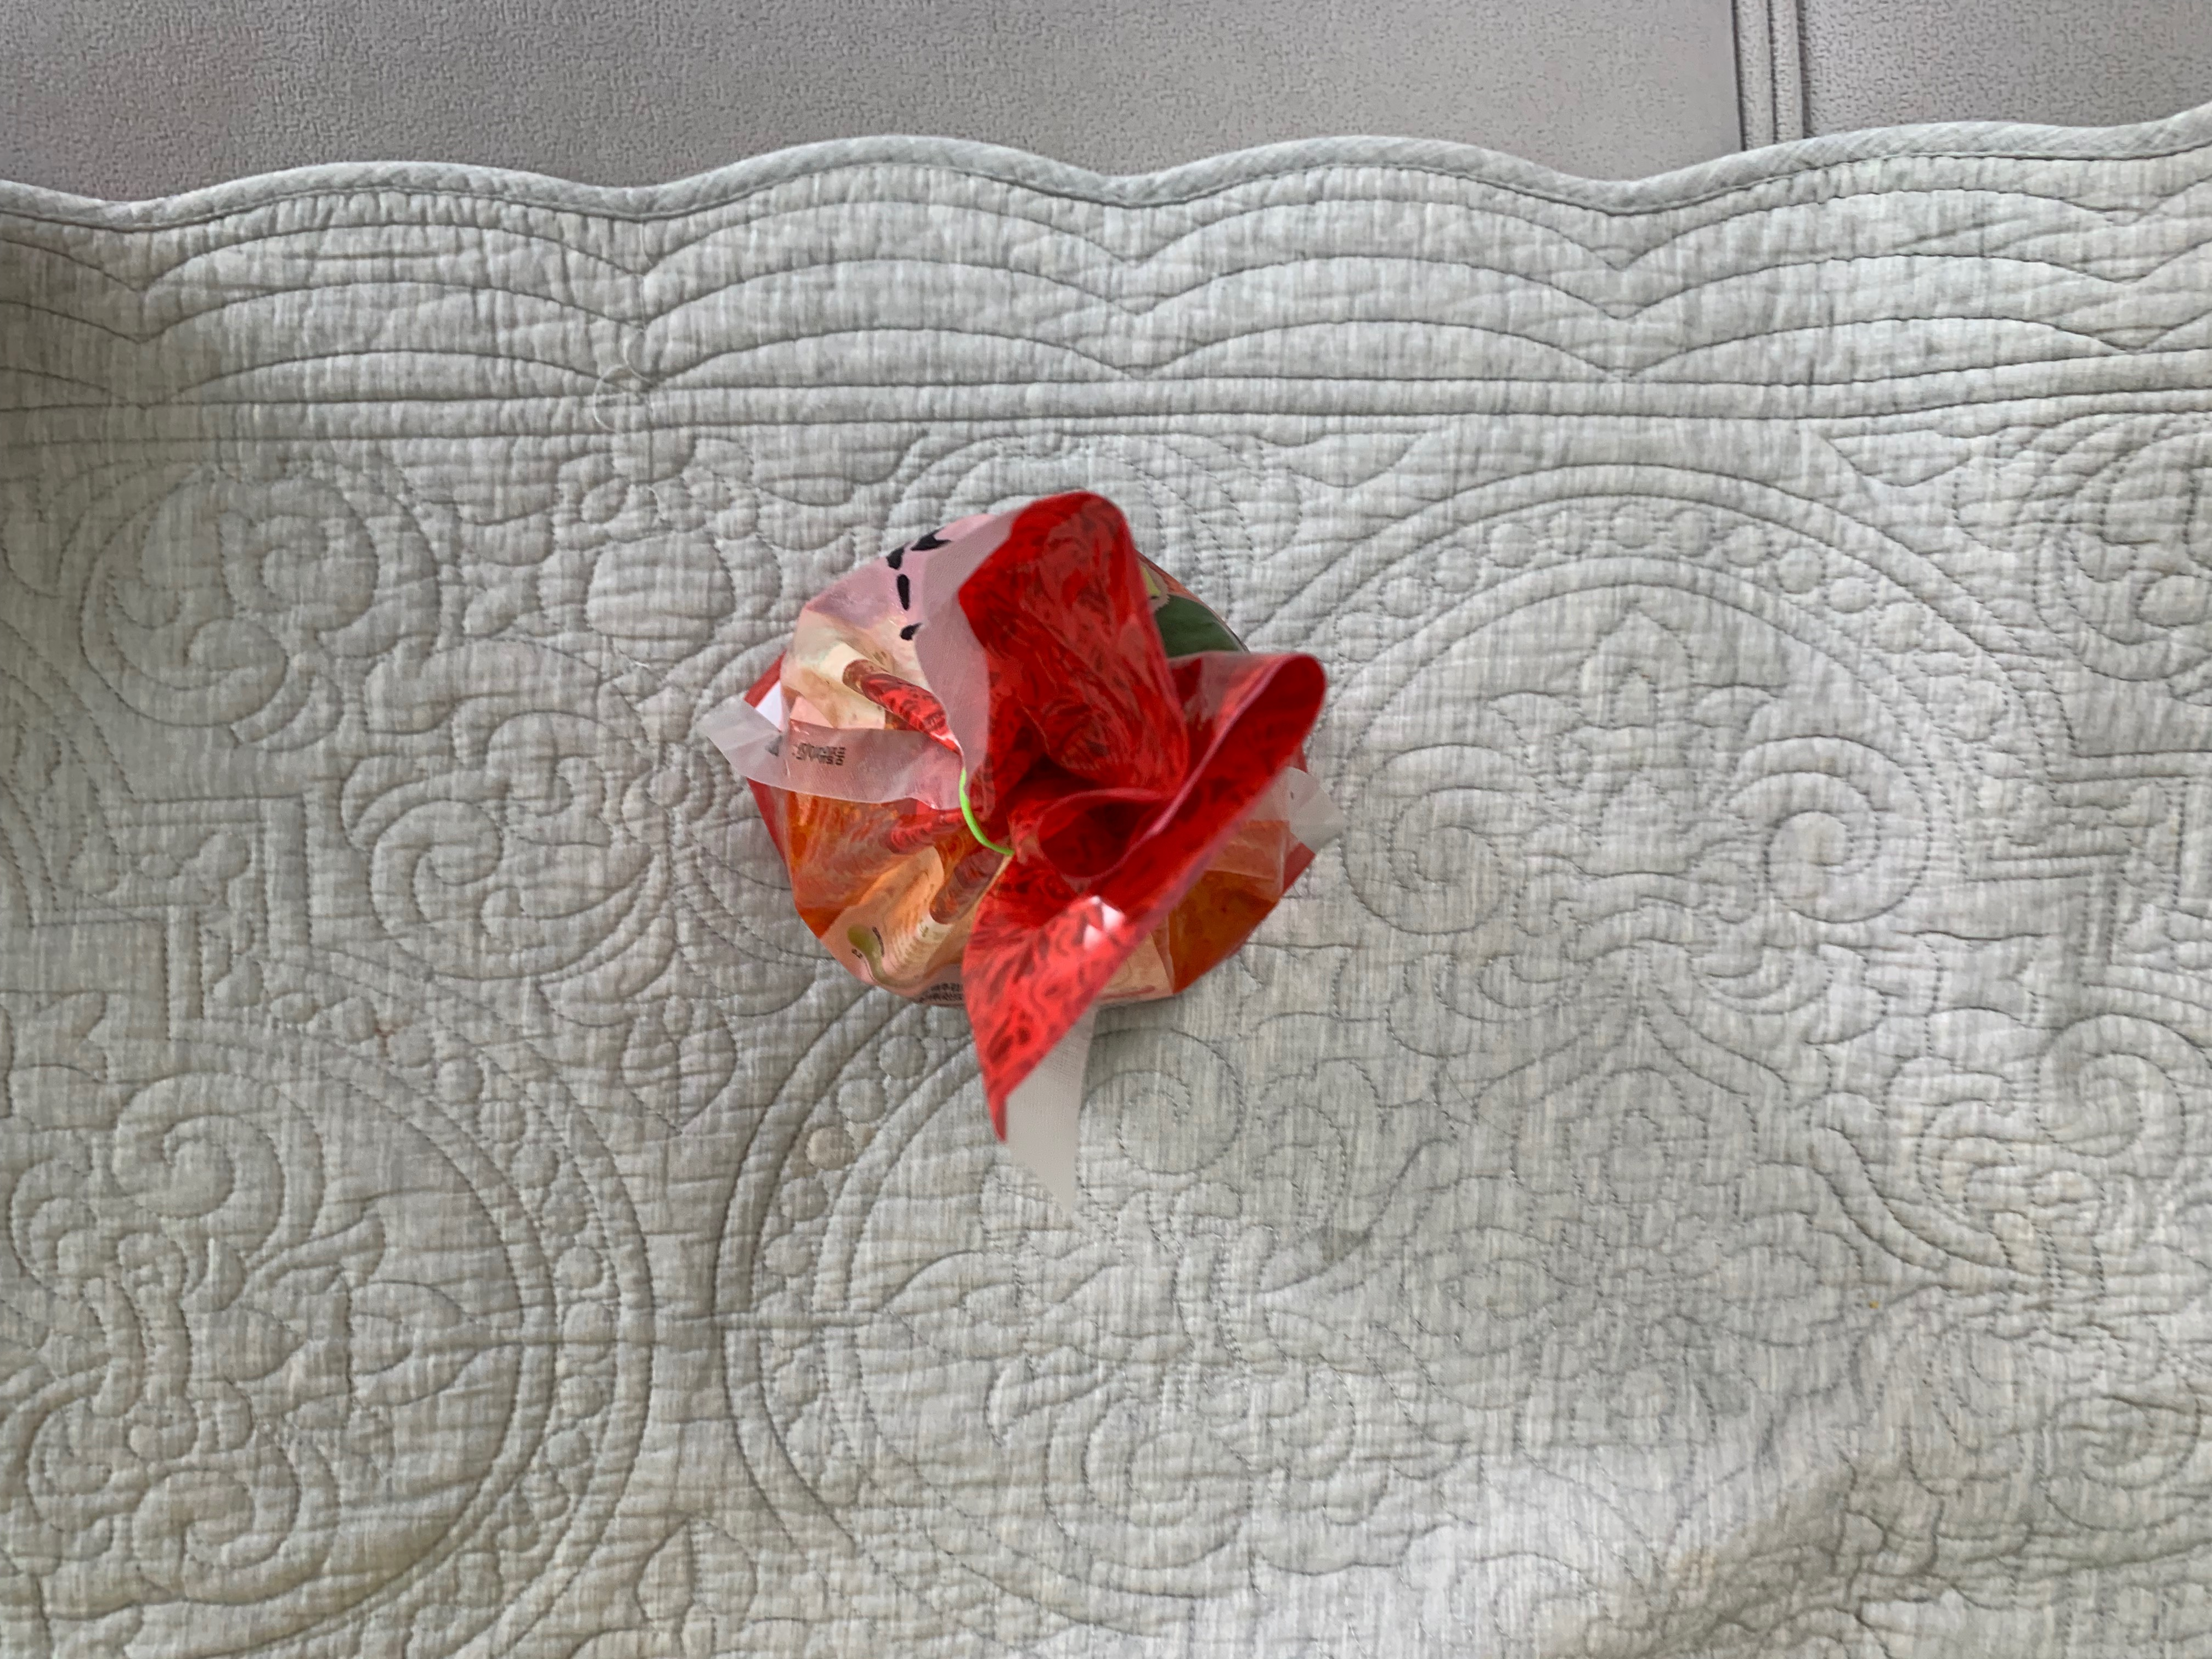kimchi: (752, 490, 1327, 1131)
